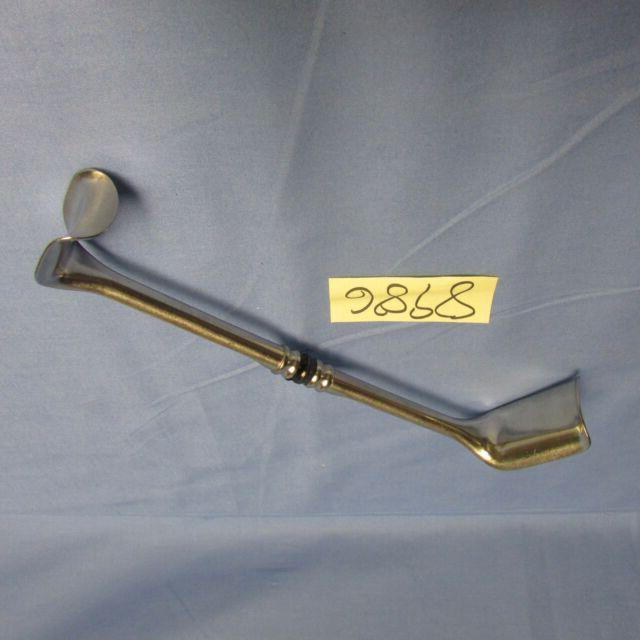Richardson: (30, 163, 595, 475)
